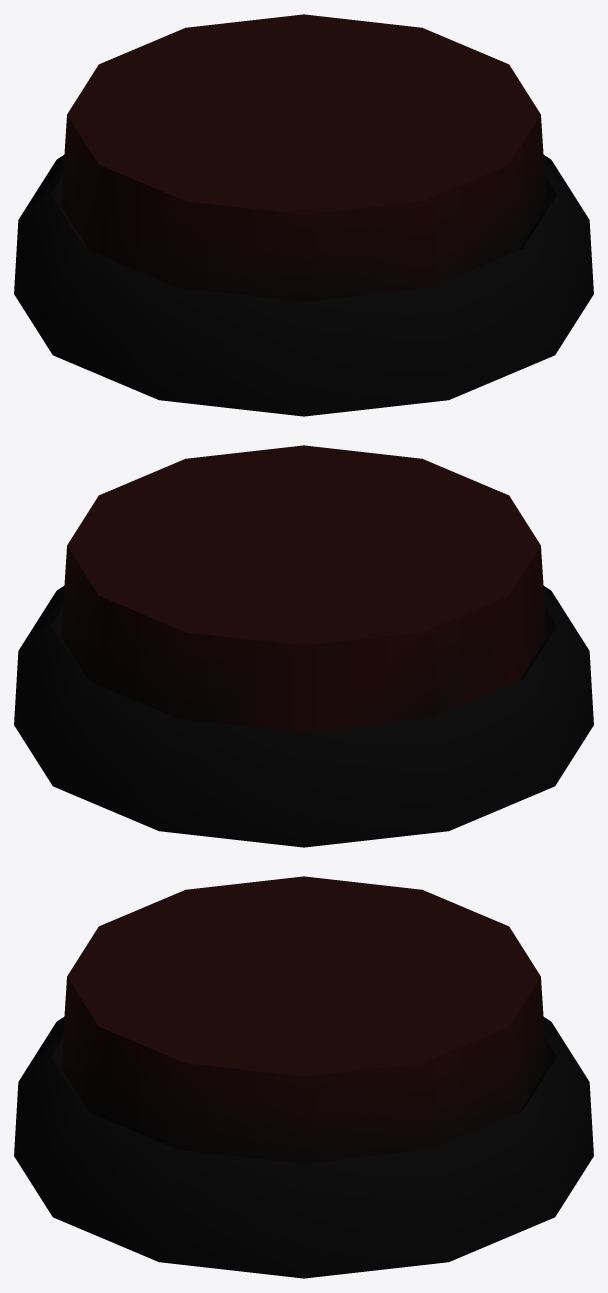
Rendered from Penalty Bulb.fbx.
The picture shows the model from 3 angles, top to bottom: view 1: azimuth 30°, elevation 25°; view 2: azimuth 150°, elevation 25°; view 3: azimuth 270°, elevation 25°; orthographic projection.
Visible parts, largest first — view 1: Penalty Bulb; view 2: Penalty Bulb; view 3: Penalty Bulb.
Boxes of the visible parts, left/top/right/bottom form: Penalty Bulb: left=14, top=14, right=593, bottom=416; Penalty Bulb: left=14, top=445, right=593, bottom=847; Penalty Bulb: left=14, top=876, right=593, bottom=1278.
Size of the model in its own units: 49.85 by 17.02 by 49.85.
